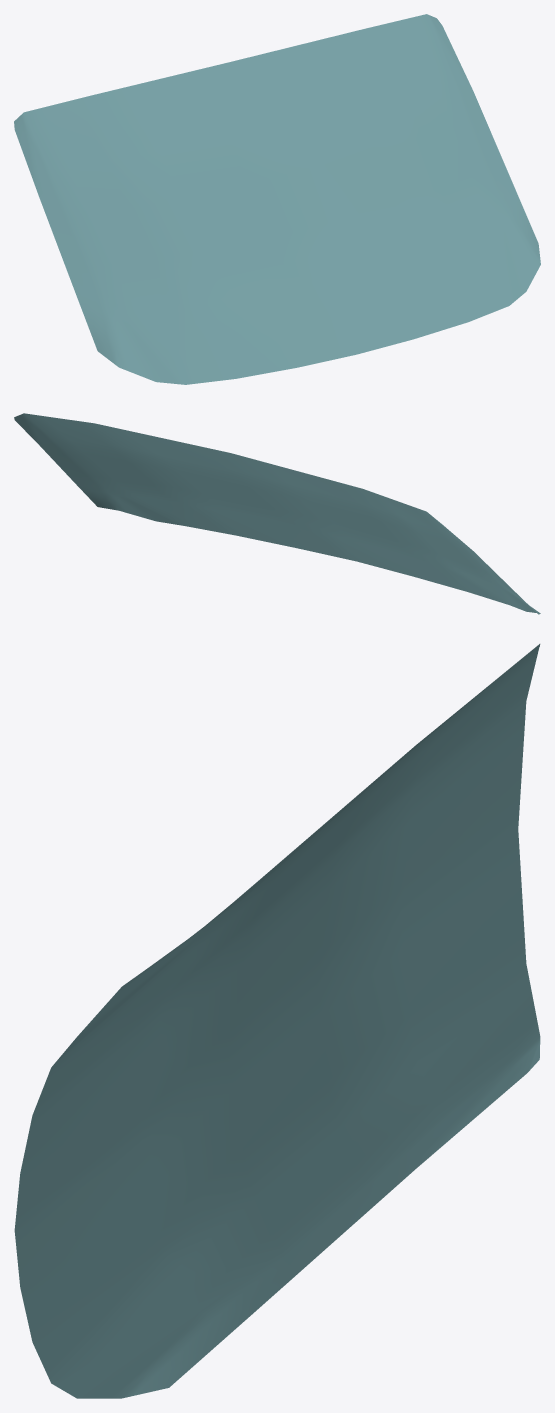
The model's file is VAN_2_Window_F_Tessellate.fbx.
3 views of the same model, one above another, from view 1: azimuth 30°, elevation 25°; view 2: azimuth 150°, elevation 25°; view 3: azimuth 270°, elevation 25° (orthographic). The views are drawn at different scales.
Visible parts, largest first — view 1: VAN_2_Window_F_Tessellate; view 2: VAN_2_Window_F_Tessellate; view 3: VAN_2_Window_F_Tessellate.
Boxes of the visible parts, left/top/right/bottom form: VAN_2_Window_F_Tessellate: left=14, top=14, right=540, bottom=384; VAN_2_Window_F_Tessellate: left=14, top=413, right=540, bottom=614; VAN_2_Window_F_Tessellate: left=14, top=644, right=540, bottom=1398.
Size of the model in its own units: 1722 by 748 by 889.
